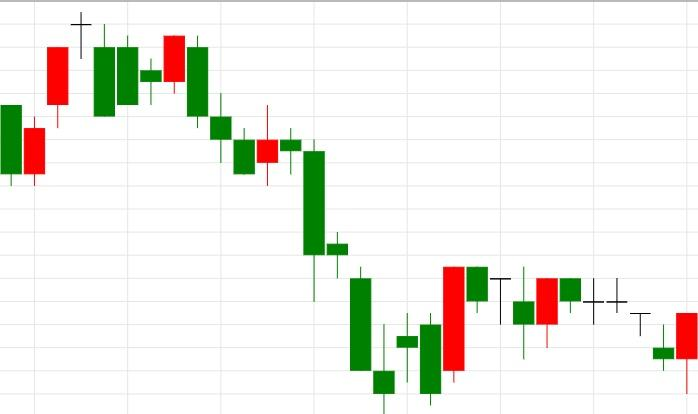bullish_engulfing_rise: (583, 278, 698, 395)
